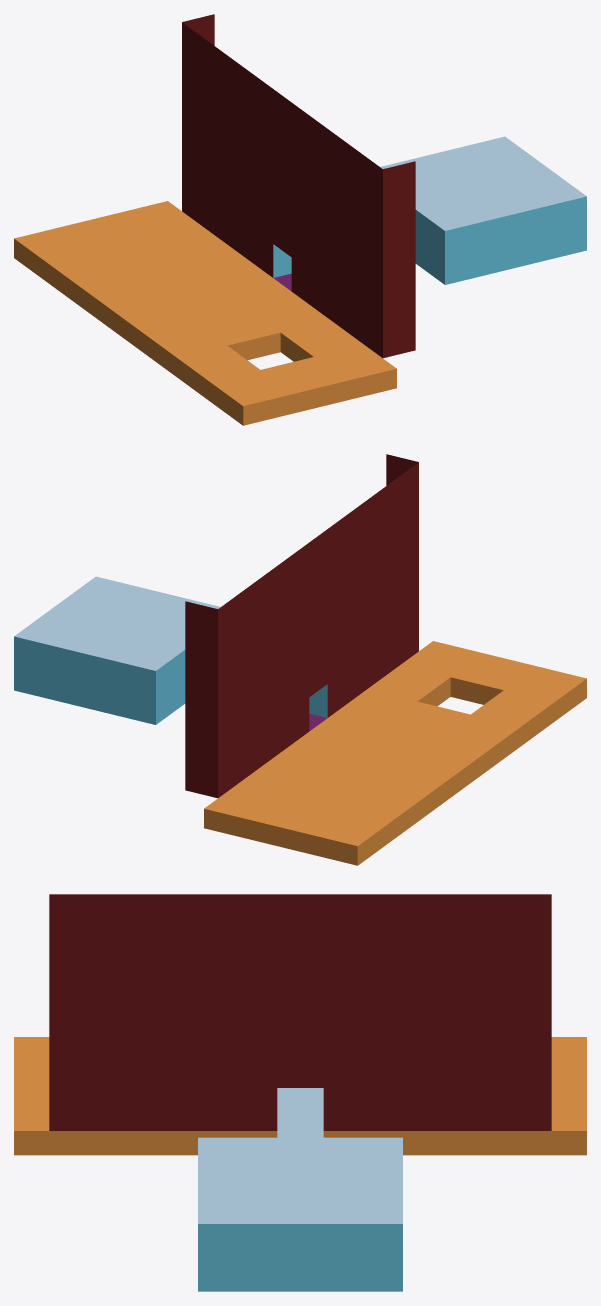
The model's file is IntroStage.fbx.
The picture shows the model from 3 angles, top to bottom: view 1: azimuth 30°, elevation 25°; view 2: azimuth 150°, elevation 25°; view 3: azimuth 270°, elevation 25°; orthographic projection. The views are drawn at different scales.
Visible parts, largest first — view 1: IntroStage; view 2: IntroStage; view 3: IntroStage.
Boxes of the visible parts, left/top/right/bottom form: IntroStage: left=14, top=14, right=586, bottom=425; IntroStage: left=14, top=454, right=586, bottom=865; IntroStage: left=14, top=894, right=586, bottom=1291.
Bounding box in the file's own units: 3428 × 1638 × 3259.
